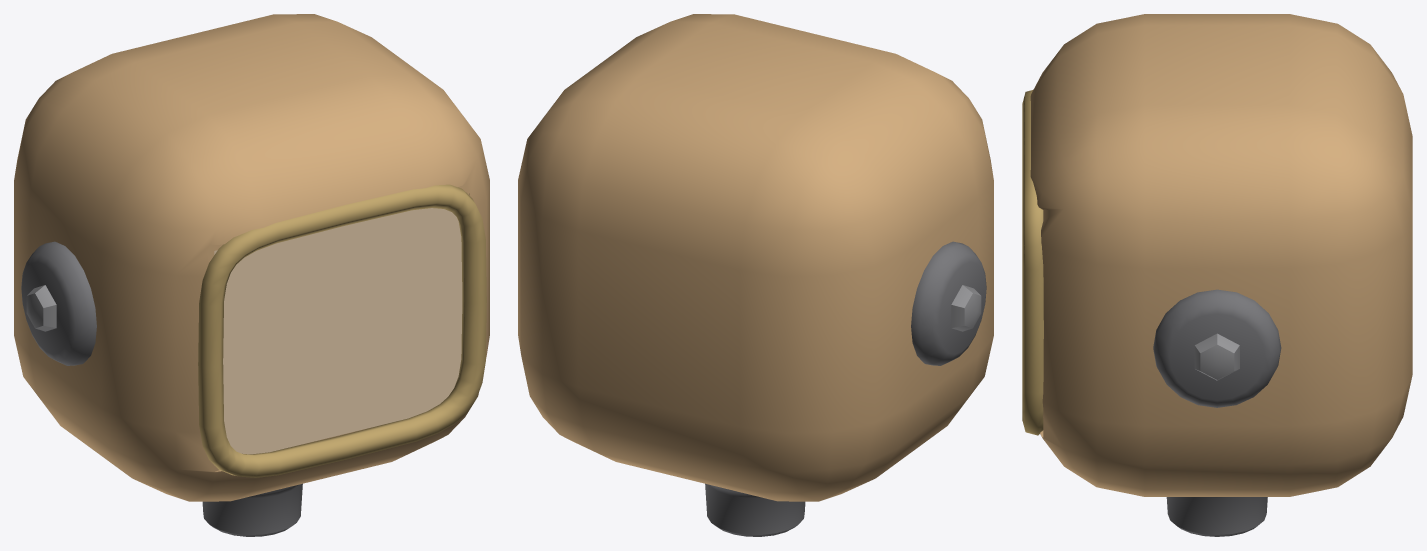
The model's file is Kit_Head_Round.glb.
The picture shows the model from 3 angles, left to right: view 1: azimuth 30°, elevation 25°; view 2: azimuth 150°, elevation 25°; view 3: azimuth 270°, elevation 25°; orthographic projection.
Parts seen in each view (by area): view 1: Kit_Head_Round, FacePlate; view 2: Kit_Head_Round; view 3: Kit_Head_Round.
Part boxes in pixels (bbox=[...]): Kit_Head_Round: bbox=[14, 14, 489, 536]; FacePlate: bbox=[214, 208, 462, 454]; Kit_Head_Round: bbox=[518, 14, 993, 536]; Kit_Head_Round: bbox=[1022, 14, 1412, 536].
Bounding box in the file's own units: 0.356 × 0.345 × 0.2697.
